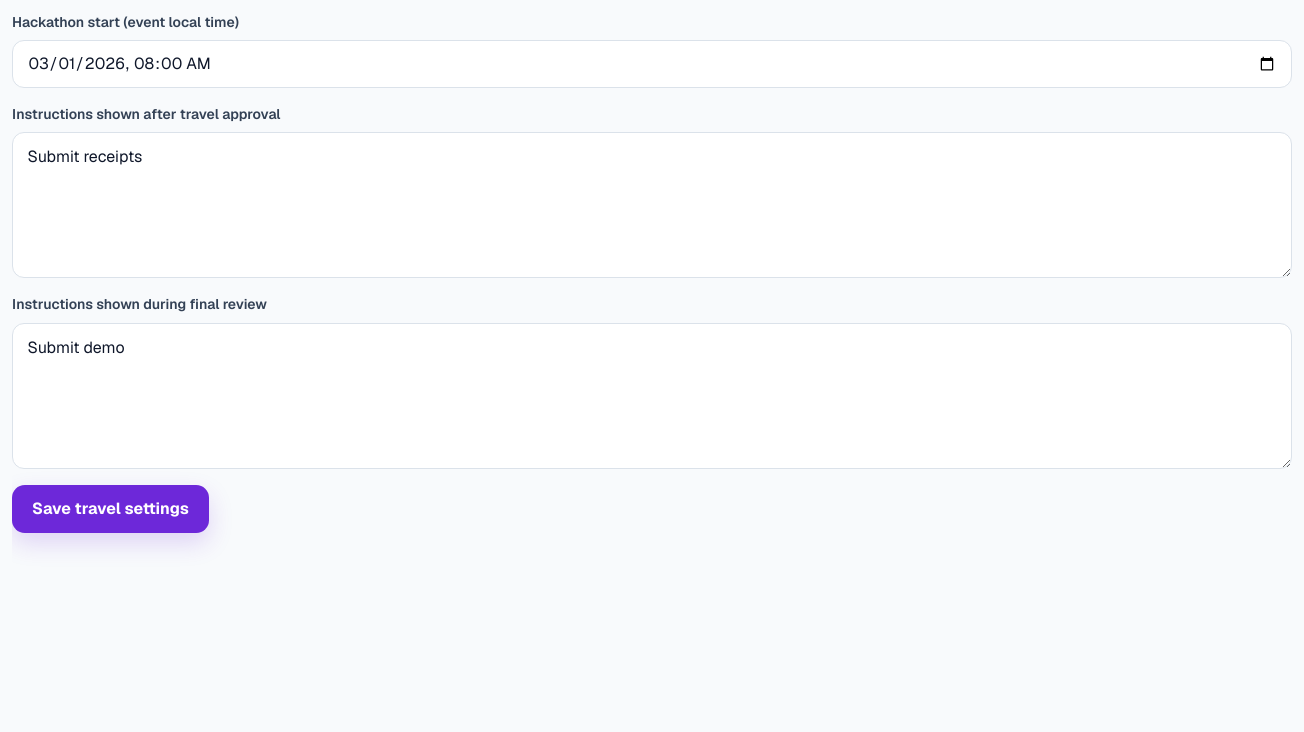
Test case: TravelSettingsForm › shows a success message when saving succeeds
The image size is (1304, 732).
Click the button "Save travel settings".
click(110, 509)  # box [12, 485, 209, 533]
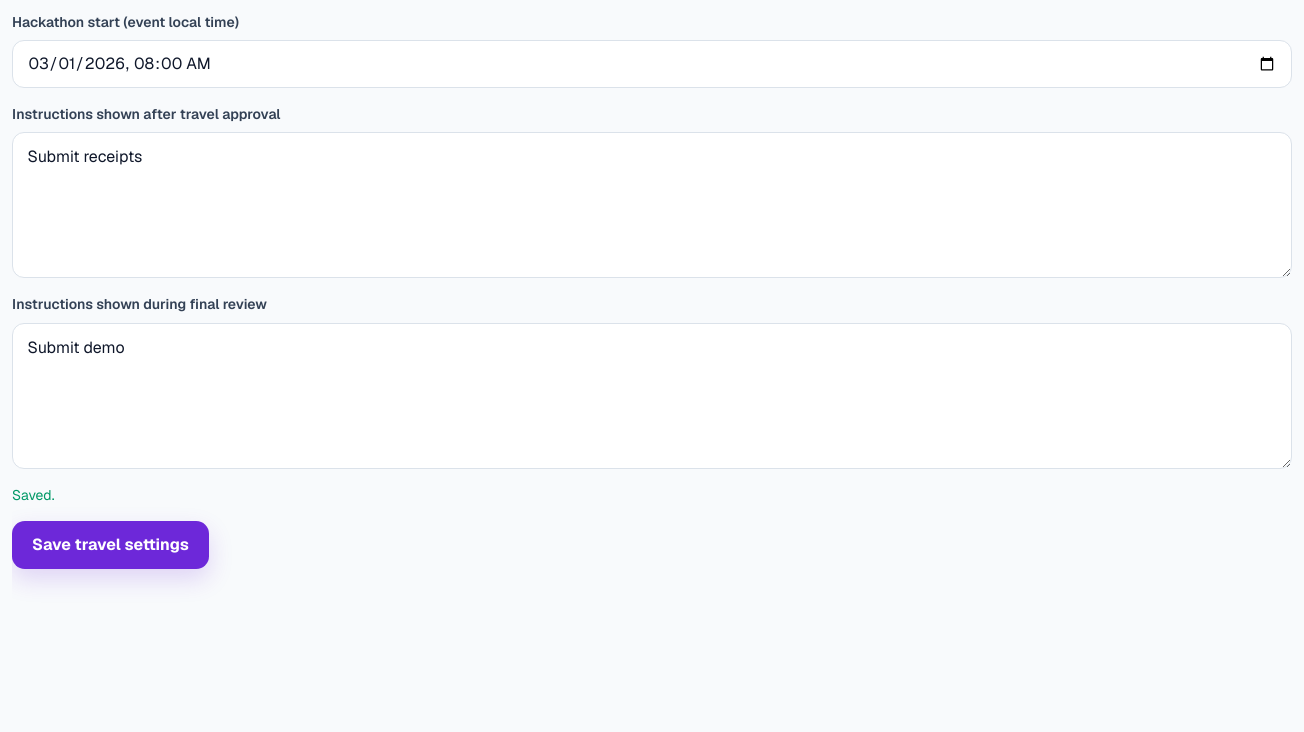
Result: the message reads "Saved." at [12, 486, 54, 504]
